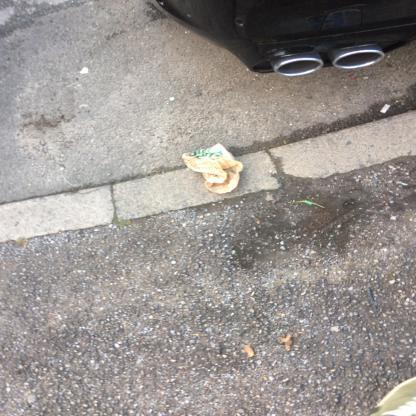kagit: (183, 144, 244, 195)
